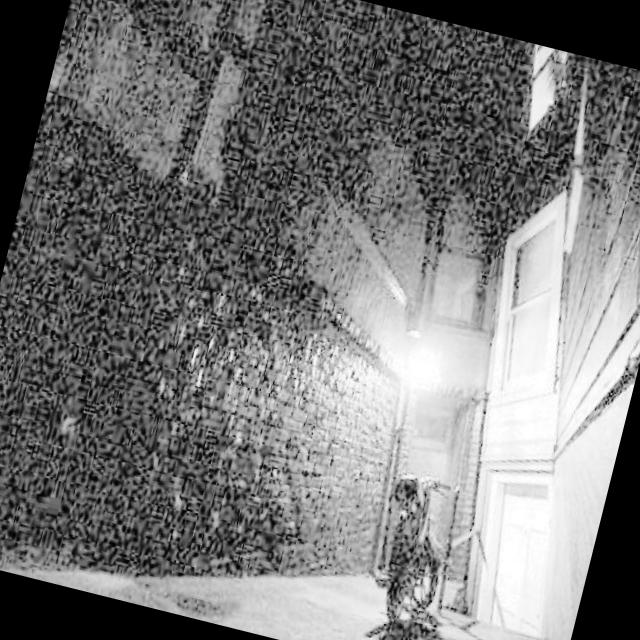Motorcycle: (334, 431, 519, 640)
